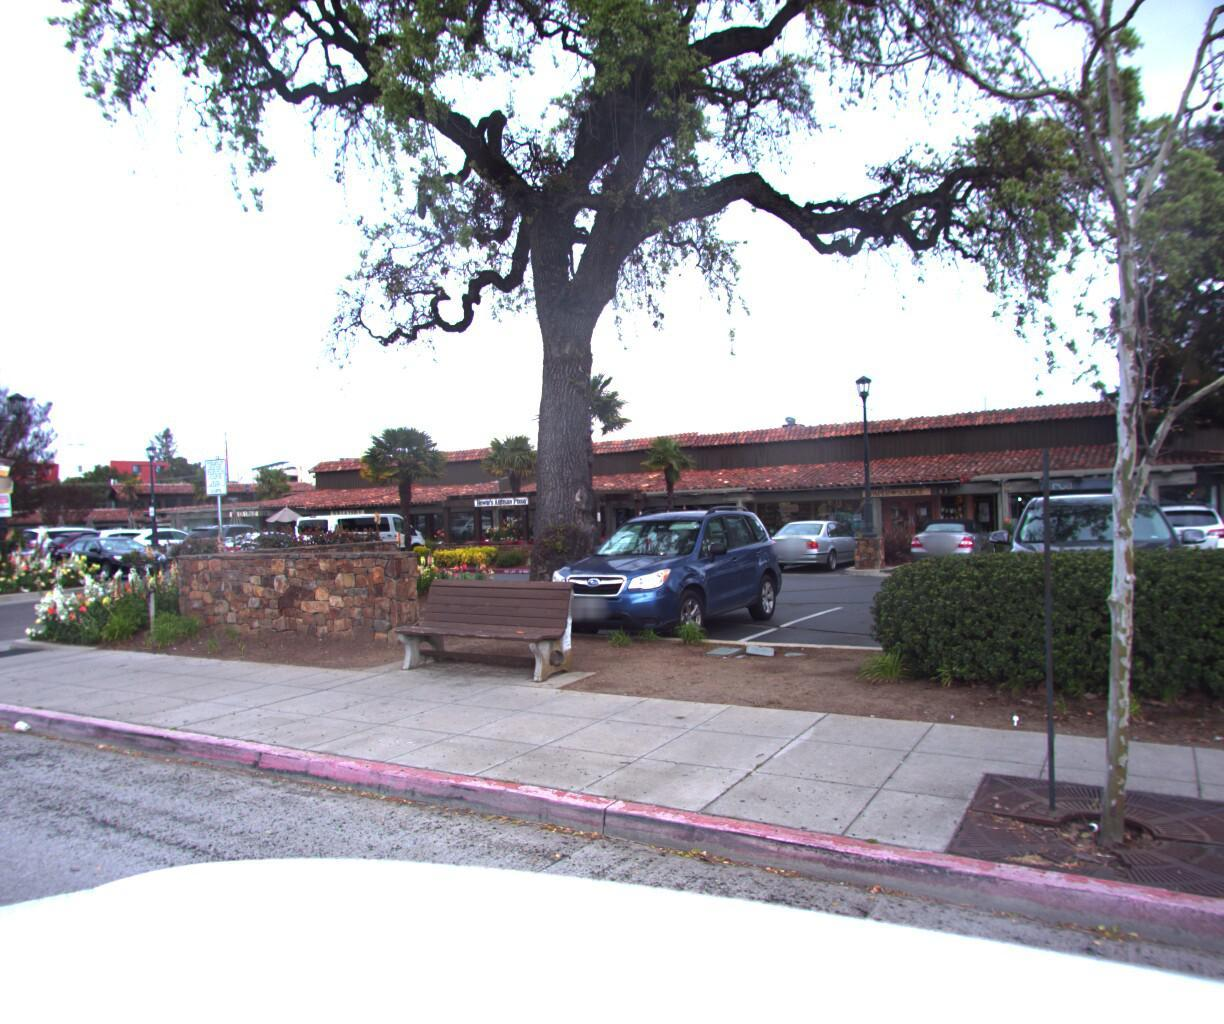car: (980, 480, 1224, 684), (515, 499, 792, 660)
